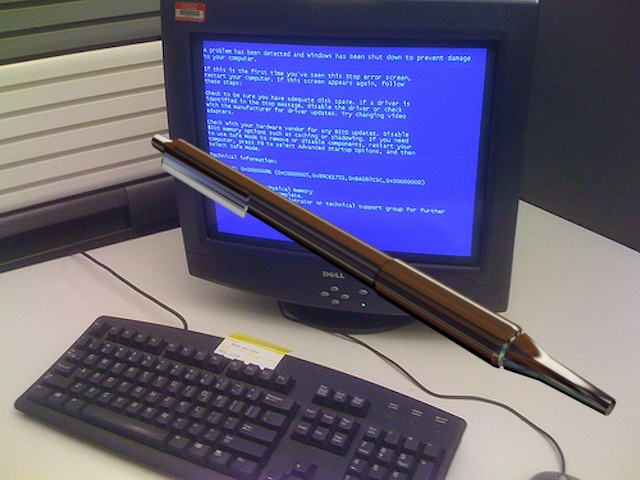pen: (145, 129, 624, 424)
